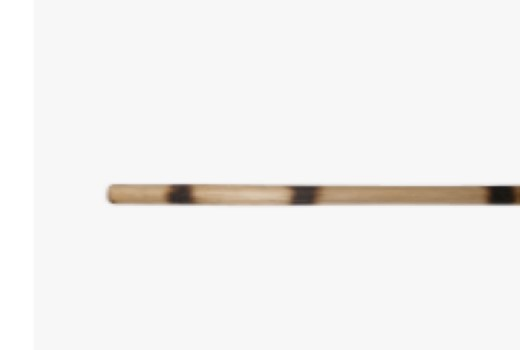baston_e: (115, 180, 515, 209)
baston_v: (99, 176, 122, 207)
